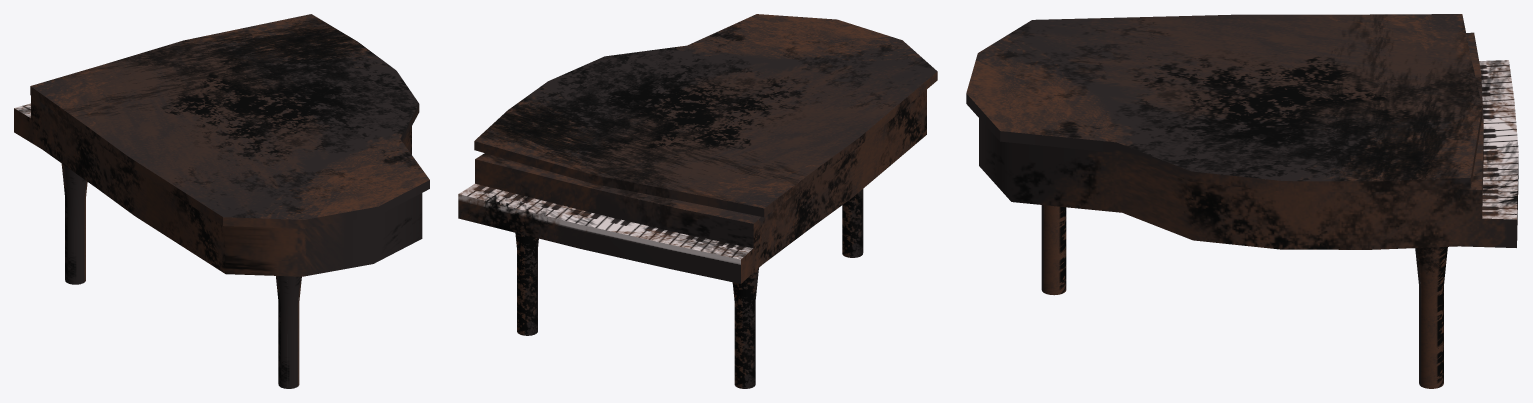
Rendered from piano.fbx.
The picture shows the model from 3 angles, left to right: view 1: azimuth 30°, elevation 25°; view 2: azimuth 150°, elevation 25°; view 3: azimuth 270°, elevation 25°; orthographic projection. The views are drawn at different scales.
Visible parts, largest first — view 1: piano:pCylinder5; view 2: piano:pCylinder5; view 3: piano:pCylinder5.
Part boxes in pixels (box(x1,y1,x2,y2)): piano:pCylinder5: box(14, 14, 429, 388); piano:pCylinder5: box(458, 14, 937, 388); piano:pCylinder5: box(966, 14, 1518, 388).
Size of the model in its own units: 4.45 by 2.81 by 6.2.
Materials: 1 (1 with a texture image).
